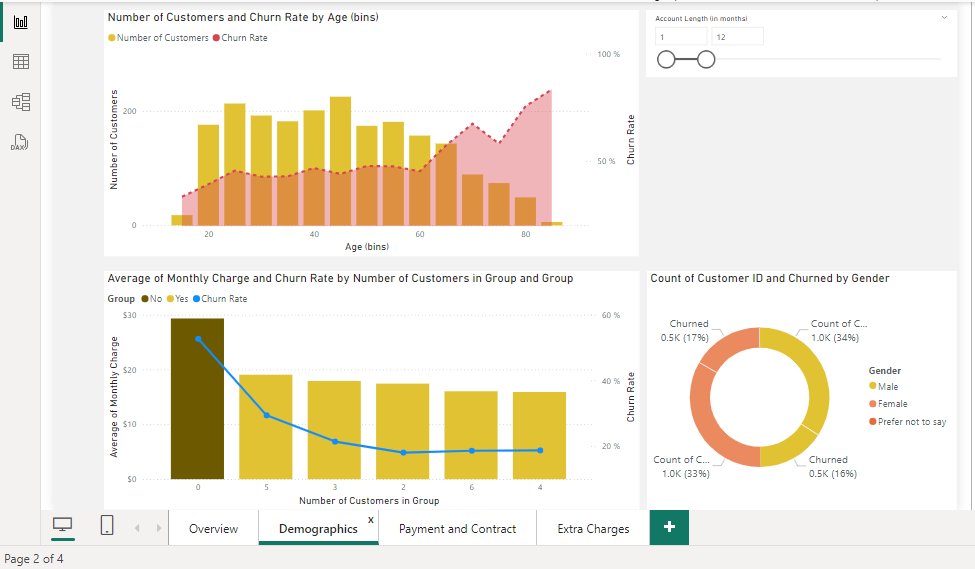

The page's visual inventory and layout, read from the dashboard file:
{"tool":"powerbi","page":{"name":"Churn Demographics","canvas":[1280,720],"ordinal":0},"visuals":[{"type":"tableEx","fields":{"Values":["Databel - Data.Senior","Databel - Data.Under 30","Databel - Data.Churn Rate"]},"box":[35.2,30.8,280.1,161.3],"z":0},{"type":"clusteredBarChart","title":"Churn Reasons","fields":{"Category":["Databel - Data.Churn Reason"],"Y":["CountNonNull(Databel - Data.Number of Customers in Group)"]},"box":[623.2,10.3,626.2,696.5],"z":1000},{"type":"card","fields":{"Values":["Databel - Data.Churn Rate"]},"box":[51.3,192.1,211.2,123.2],"z":2000},{"type":"lineStackedColumnComboChart","fields":{"Category":["Databel - Data.Age (bins)"],"Y":["Databel - Data.Number of costumers"],"Y2":["Databel - Data.Churn Rate"]},"box":[14.7,360.7,608.6,346.1],"z":3000},{"type":"card","fields":{"Values":["Min(Databel - Data.Customer ID)"]},"box":[366.6,49.9,211.2,123.2],"z":4000},{"type":"card","fields":{"Values":["Sum(Databel - Data.Churned)"]},"box":[366.6,192.1,211.2,123.2],"z":5000}]}

Visuals, with their boxes on the page's 1280x720 design canvas (x1, y1, x2, y2). These are canvas units, not pixel positions in the 975x569 screenshot, which may show the page scaled, cropped or inside an application window:
tableEx - Databel - Data.Senior x Databel - Data.Under 30: (x1=35, y1=31, x2=315, y2=192)
"Churn Reasons" clusteredBarChart: (x1=623, y1=10, x2=1249, y2=707)
card - Databel - Data.Churn Rate: (x1=51, y1=192, x2=262, y2=315)
lineStackedColumnComboChart - Databel - Data.Age (bins) x Databel - Data.Number of costumers: (x1=15, y1=361, x2=623, y2=707)
card - Min(Databel - Data.Customer ID): (x1=367, y1=50, x2=578, y2=173)
card - Sum(Databel - Data.Churned): (x1=367, y1=192, x2=578, y2=315)
